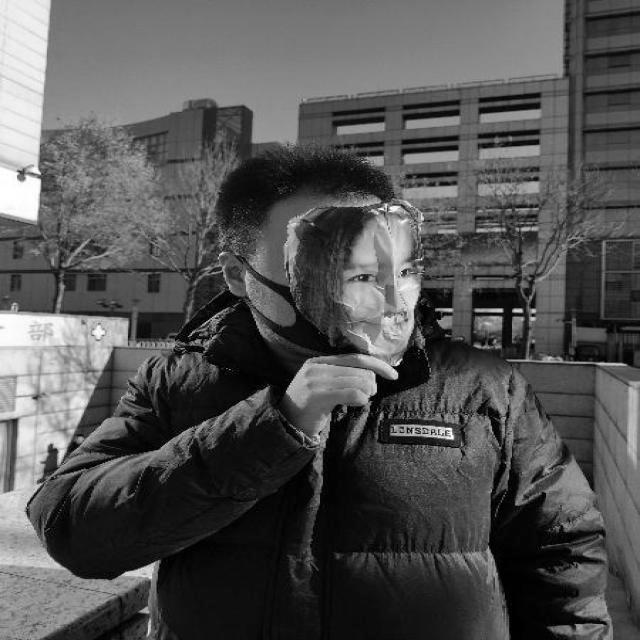fake: (283, 200, 420, 360)
